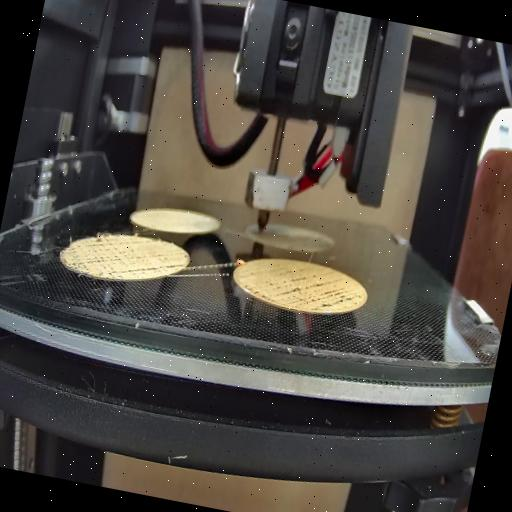under_extrusion: (240, 262, 366, 320), (70, 232, 188, 290)
